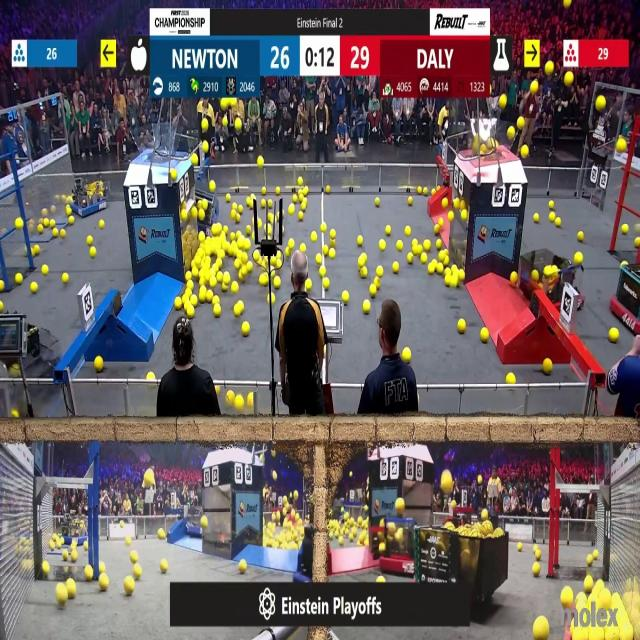ball_airborne: (442, 473, 454, 494), (144, 471, 154, 488), (594, 94, 604, 110), (395, 497, 404, 512), (618, 139, 627, 152), (544, 62, 552, 76), (220, 98, 228, 111), (522, 144, 529, 158), (499, 96, 506, 110), (530, 83, 538, 95), (518, 116, 526, 128), (565, 73, 573, 85), (480, 144, 488, 156), (203, 141, 210, 153), (507, 128, 514, 140), (230, 99, 238, 109), (236, 118, 243, 129), (203, 118, 209, 130), (191, 155, 197, 167), (563, 0, 571, 9), (171, 170, 178, 180), (257, 158, 263, 168), (222, 117, 227, 126), (450, 500, 454, 509), (273, 471, 278, 478), (284, 496, 288, 504)
ball_ground: (533, 618, 547, 640), (562, 588, 574, 608), (58, 586, 68, 608), (126, 578, 136, 596), (542, 358, 551, 374), (68, 582, 76, 599), (100, 574, 108, 590), (95, 356, 104, 370), (401, 348, 410, 362), (87, 566, 95, 581), (586, 576, 594, 591), (362, 301, 370, 315), (458, 319, 466, 333), (609, 328, 617, 342), (481, 328, 489, 342), (242, 321, 250, 335), (134, 564, 142, 578), (239, 239, 249, 250), (247, 392, 254, 407), (161, 560, 169, 573), (532, 563, 540, 576), (236, 395, 244, 408), (240, 560, 247, 574), (322, 278, 330, 290), (574, 252, 582, 264), (368, 285, 376, 297), (186, 306, 194, 318), (342, 290, 350, 302), (213, 306, 221, 318), (358, 254, 366, 266), (226, 390, 234, 402), (10, 364, 18, 376), (236, 304, 243, 317), (200, 289, 207, 302), (506, 374, 514, 385), (232, 282, 240, 293), (31, 282, 38, 294), (42, 562, 49, 574), (175, 300, 182, 312), (438, 264, 445, 276), (222, 273, 229, 285), (253, 250, 260, 262), (207, 289, 214, 301), (461, 210, 468, 222), (32, 245, 40, 255), (420, 253, 428, 263), (451, 277, 459, 287), (274, 278, 281, 289), (15, 274, 22, 285), (377, 267, 384, 278), (360, 268, 367, 279), (424, 241, 431, 252), (259, 275, 266, 286), (212, 223, 219, 234), (227, 245, 234, 256), (132, 552, 138, 564), (91, 248, 98, 258), (316, 254, 323, 264), (190, 295, 197, 305), (319, 268, 326, 278), (356, 236, 363, 246), (445, 276, 452, 286), (160, 529, 167, 539), (100, 562, 107, 572), (15, 218, 22, 228), (451, 200, 458, 210), (263, 255, 270, 265), (380, 240, 386, 251), (512, 273, 518, 284), (459, 271, 465, 282), (588, 555, 594, 566), (323, 245, 329, 256), (242, 251, 248, 262), (378, 575, 386, 583), (212, 295, 220, 303), (11, 411, 18, 420), (441, 249, 448, 258), (41, 208, 48, 217), (307, 280, 313, 290), (42, 266, 48, 276), (392, 264, 398, 274), (63, 274, 69, 284), (435, 240, 441, 250), (623, 223, 629, 233), (396, 241, 402, 251), (88, 236, 94, 246), (428, 266, 434, 276), (328, 248, 334, 258), (246, 264, 252, 274), (320, 222, 326, 232), (210, 278, 216, 288), (236, 261, 242, 271), (191, 269, 197, 279), (271, 294, 277, 304), (288, 205, 294, 215), (407, 225, 413, 235), (64, 552, 70, 562), (71, 552, 77, 562), (148, 370, 154, 380), (200, 233, 206, 243), (218, 248, 224, 258), (210, 181, 216, 191), (271, 256, 277, 266), (202, 518, 208, 528), (532, 271, 538, 281), (375, 278, 381, 288), (577, 233, 583, 242), (556, 217, 562, 226), (536, 214, 542, 223), (433, 224, 439, 233), (186, 280, 192, 289), (184, 272, 190, 281), (214, 385, 220, 394), (534, 552, 540, 561), (269, 213, 275, 222), (200, 278, 206, 287), (127, 536, 133, 545), (248, 200, 254, 209), (231, 232, 237, 241), (216, 257, 222, 266), (276, 261, 282, 270), (182, 294, 188, 303), (409, 252, 414, 262), (386, 224, 391, 234), (635, 238, 640, 248), (551, 212, 556, 222), (269, 224, 274, 234), (217, 272, 222, 282), (239, 272, 244, 282), (635, 222, 640, 232), (259, 202, 266, 209), (100, 220, 106, 228), (0, 302, 4, 314), (299, 244, 305, 252), (329, 231, 335, 239), (51, 230, 57, 238), (68, 216, 74, 224), (243, 224, 249, 232), (547, 202, 553, 210), (38, 224, 44, 232), (297, 212, 303, 220), (284, 248, 290, 256), (445, 257, 451, 265), (413, 240, 419, 248), (452, 266, 458, 274), (517, 542, 523, 550), (276, 251, 282, 259), (221, 284, 227, 292), (312, 233, 317, 242), (449, 212, 454, 221), (288, 240, 293, 249), (67, 207, 72, 216), (49, 219, 54, 228), (44, 218, 49, 227), (297, 177, 302, 186), (340, 536, 345, 545), (0, 281, 4, 292), (276, 187, 282, 194), (238, 207, 244, 214), (324, 186, 330, 193), (263, 187, 269, 194), (444, 200, 449, 208), (61, 231, 66, 239), (225, 193, 230, 201), (83, 541, 88, 549), (423, 187, 428, 195), (440, 218, 445, 226), (299, 203, 304, 211), (269, 201, 274, 209), (593, 552, 598, 560), (376, 199, 380, 208), (223, 224, 227, 233), (329, 240, 334, 247), (230, 212, 235, 219), (237, 214, 241, 222), (409, 198, 413, 206), (257, 220, 261, 228), (292, 197, 296, 204), (418, 186, 422, 193), (119, 521, 123, 528), (233, 203, 237, 210), (431, 188, 435, 195), (305, 187, 309, 194)
goal: (468, 124, 520, 161), (130, 129, 187, 160)
robot_blue: (72, 175, 110, 218), (193, 190, 221, 236), (59, 517, 89, 548)
robot_red: (520, 251, 584, 317), (368, 504, 420, 574), (613, 262, 640, 334)
